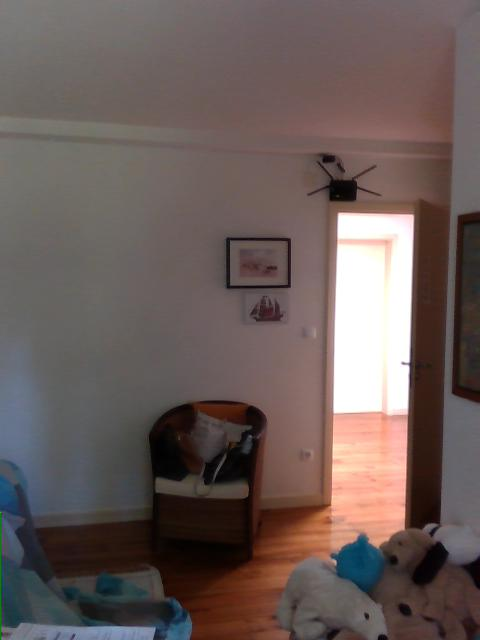open_door: (320, 191, 449, 525)
